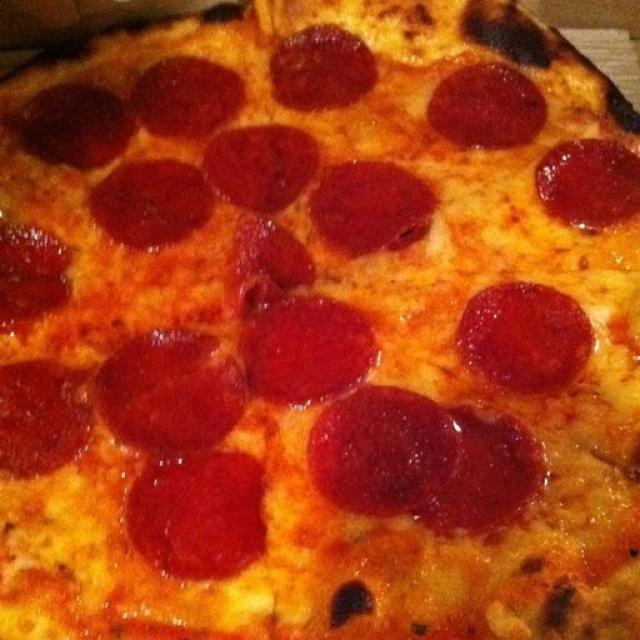Pepperoni: (316, 384, 456, 512), (137, 446, 270, 580), (100, 331, 239, 453), (460, 272, 594, 397), (252, 293, 372, 414), (428, 420, 548, 538), (439, 50, 545, 156), (320, 161, 435, 254), (0, 369, 91, 478), (92, 158, 207, 244), (136, 54, 245, 137), (19, 82, 128, 164), (211, 127, 317, 211), (274, 22, 370, 108), (538, 139, 632, 225), (0, 230, 78, 325), (238, 226, 315, 304)
Pizza: (0, 0, 640, 640)
